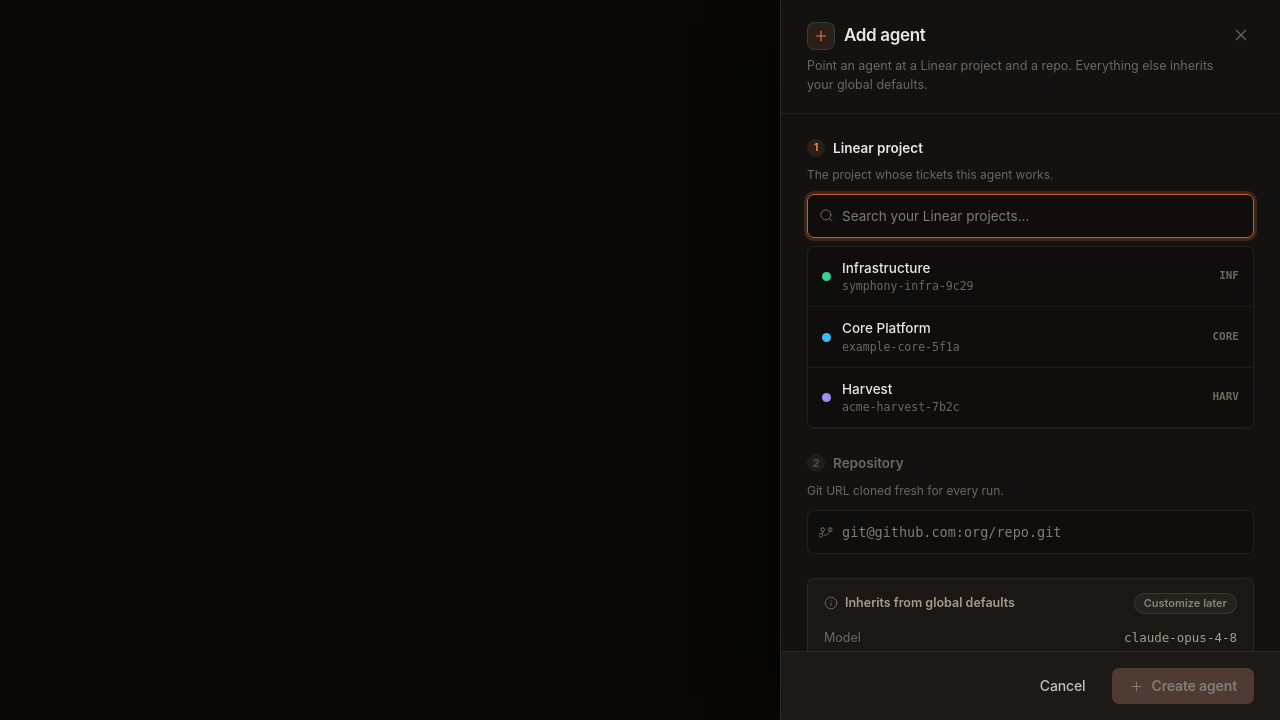
AddAgentSheet › filters the picker by name, slug or team
Step 1. Type "core" into the field with placeholder "Search your Linear projects…" → (1030, 216), box [807,194,1254,238]
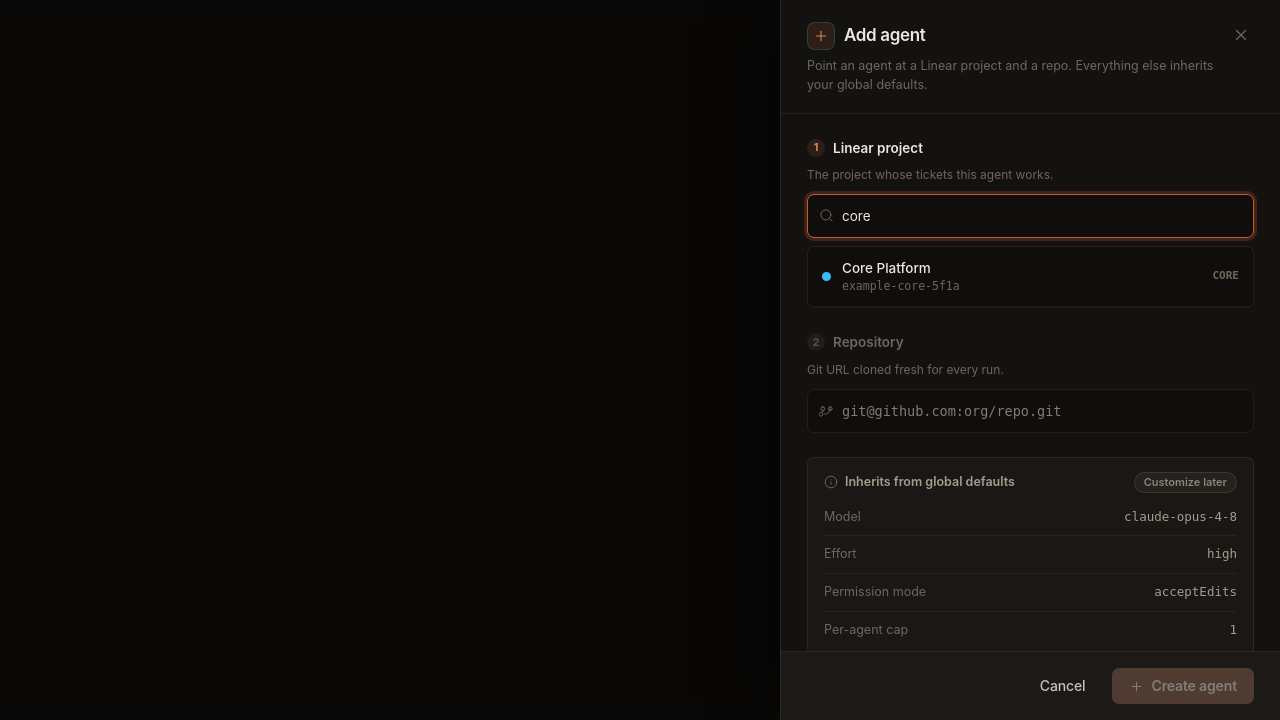
Expected: the text "Core Platform" is shown, [842,260,931,276]
Expected: the option "Infrastructure" is gone
Note: team match
Step 2. Replace the text in the field with placeholder "Search your Linear projects…" with "HARV" → (1030, 216), box [807,194,1254,238]
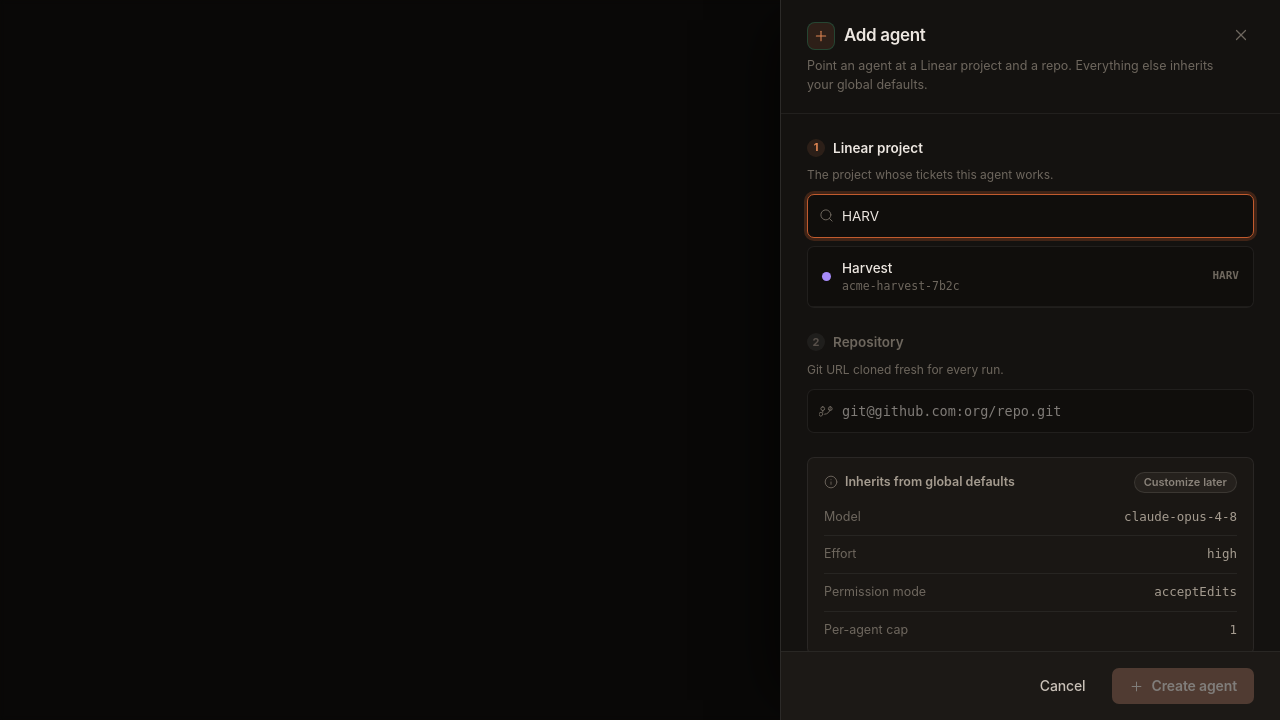
Expected: the text "Harvest" is shown, [842,260,892,276]
Expected: the option "Core Platform" is gone
